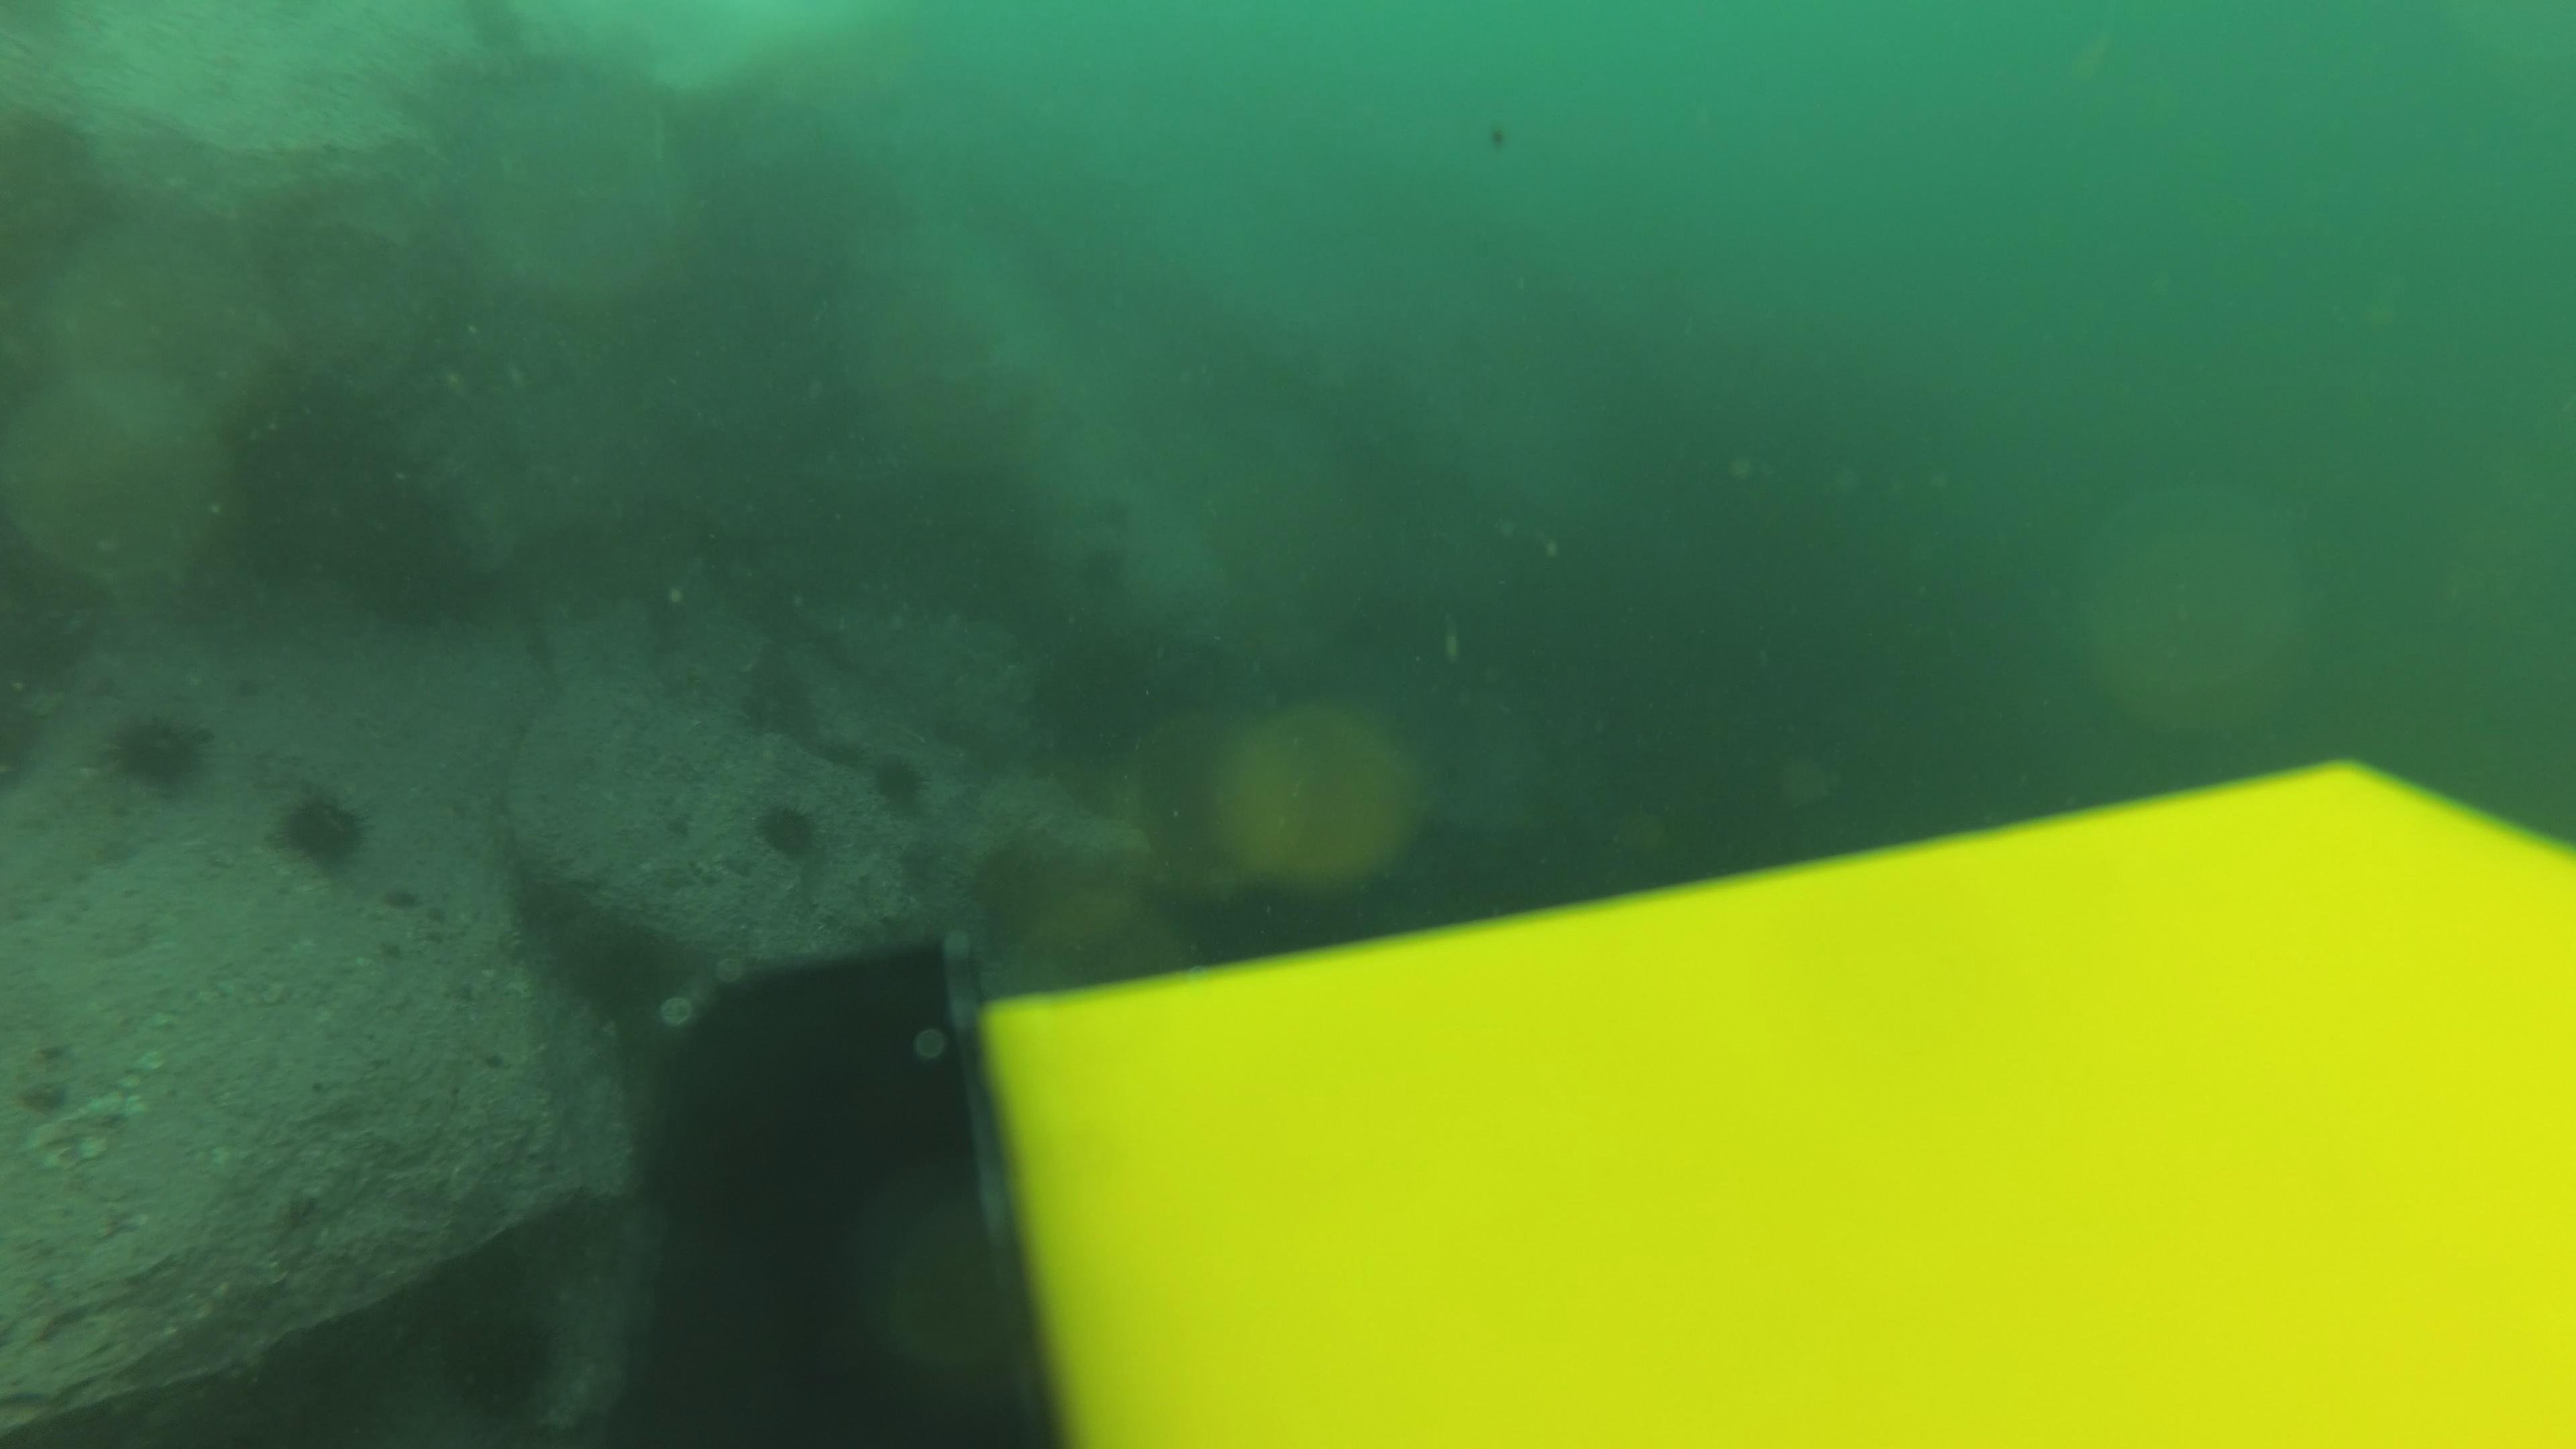echinus: (1023, 628, 1168, 766), (430, 1295, 566, 1426), (957, 833, 1063, 948), (97, 702, 216, 796), (267, 780, 375, 874), (729, 649, 824, 741), (747, 791, 830, 865), (1081, 541, 1154, 614), (863, 747, 936, 817)
